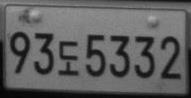2: (159, 35, 181, 79)
3: (134, 34, 156, 79), (109, 34, 130, 78), (33, 32, 54, 75)
5: (85, 33, 106, 77)
9: (8, 30, 31, 74)
도: (57, 40, 79, 75)
